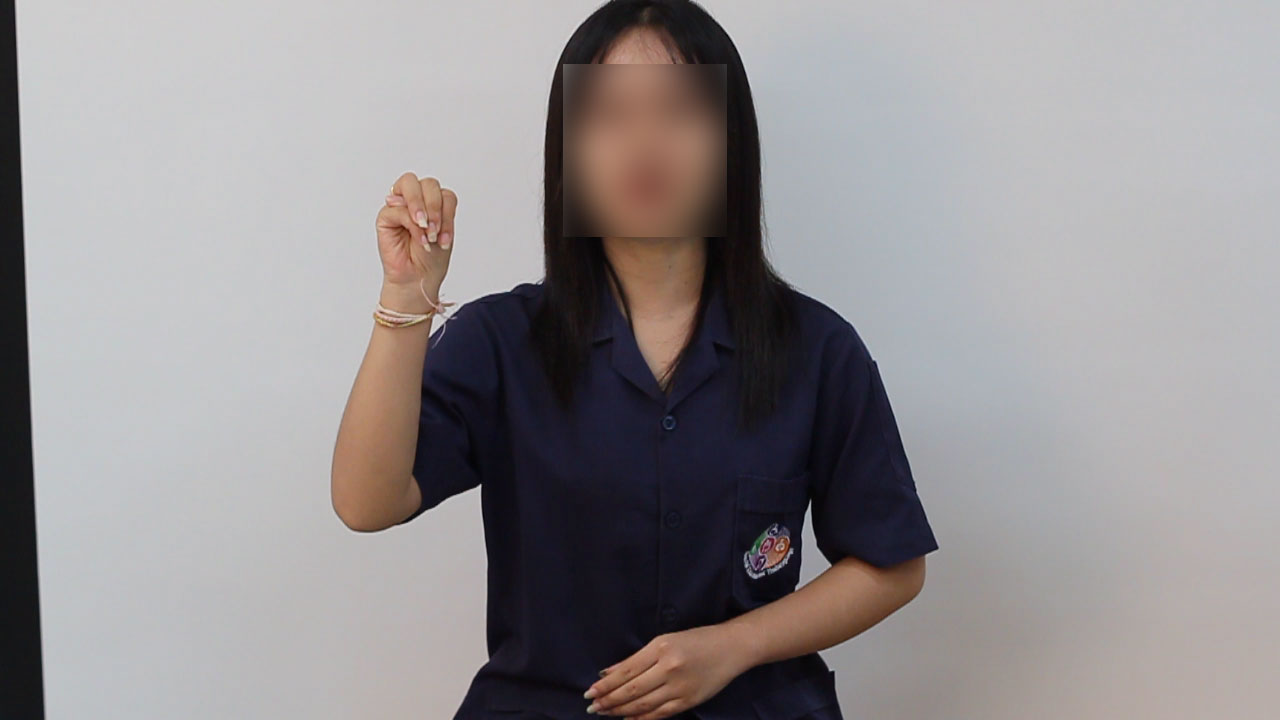mor: (367, 163, 466, 300)
